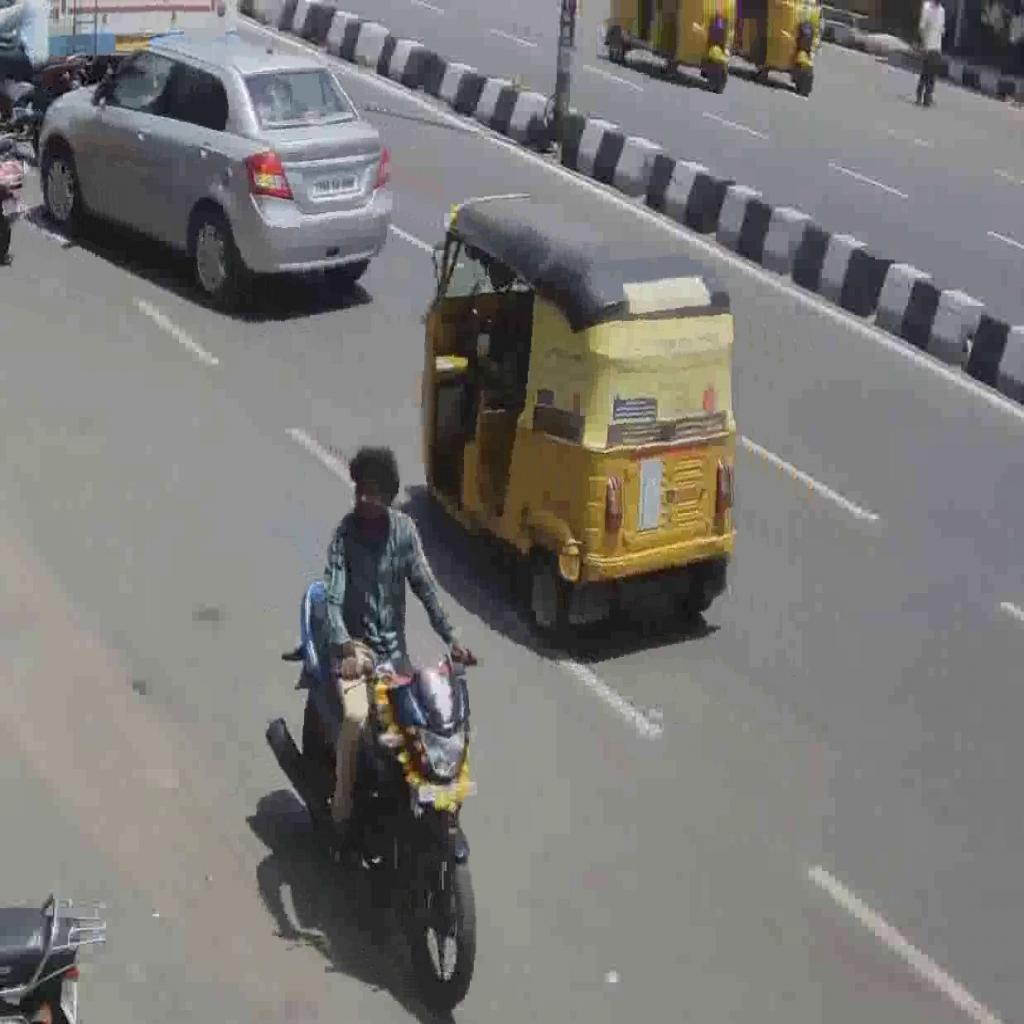bike: (264, 574, 483, 1012)
no_helmet: (348, 441, 401, 528)
rider: (314, 441, 474, 869)
